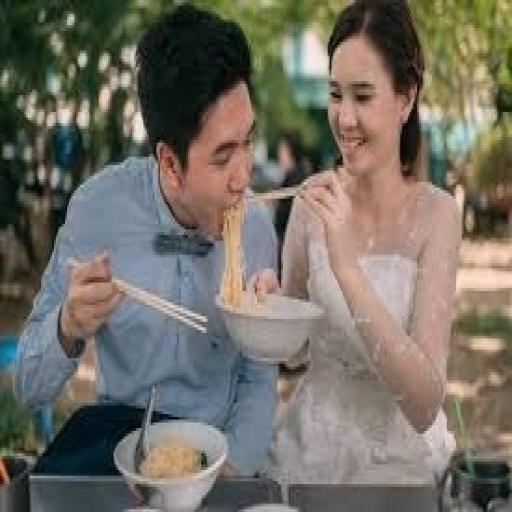eating: (13, 0, 465, 490)
